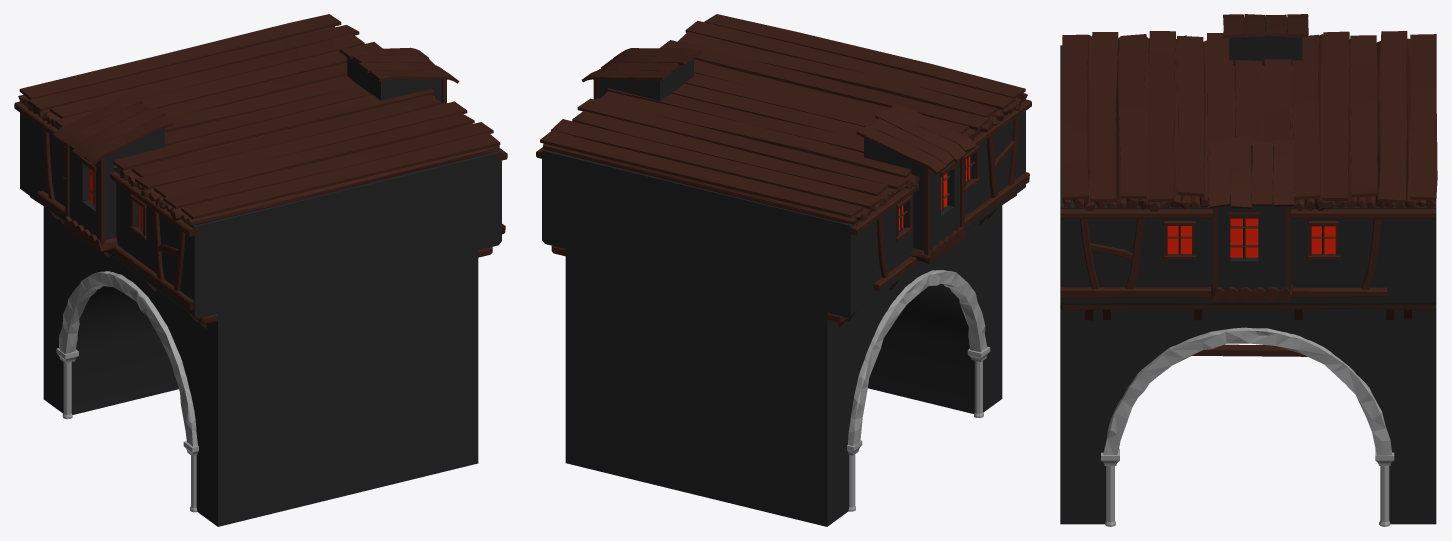
Rendered from civilian_house_24_a.FBX.
3 views of the same model, side by side, from view 1: azimuth 30°, elevation 25°; view 2: azimuth 150°, elevation 25°; view 3: azimuth 270°, elevation 25° (orthographic). The views are drawn at different scales.
Visible parts, largest first — view 1: civilian_house_24_a; view 2: civilian_house_24_a; view 3: civilian_house_24_a.
Boxes of the visible parts, box(x1,y1,x2,y2) form: civilian_house_24_a: box(14, 14, 507, 526); civilian_house_24_a: box(536, 14, 1031, 526); civilian_house_24_a: box(1060, 14, 1437, 526).
Size of the model in its own units: 694 by 631 by 582.
